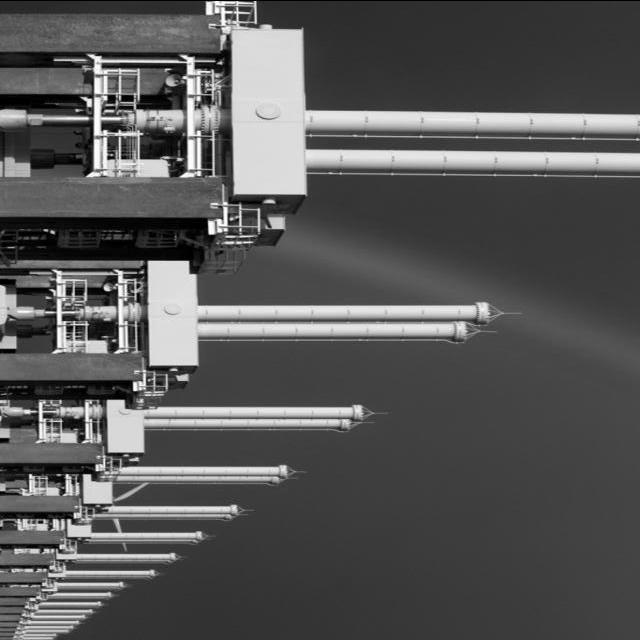missile: (143, 401, 385, 420)
